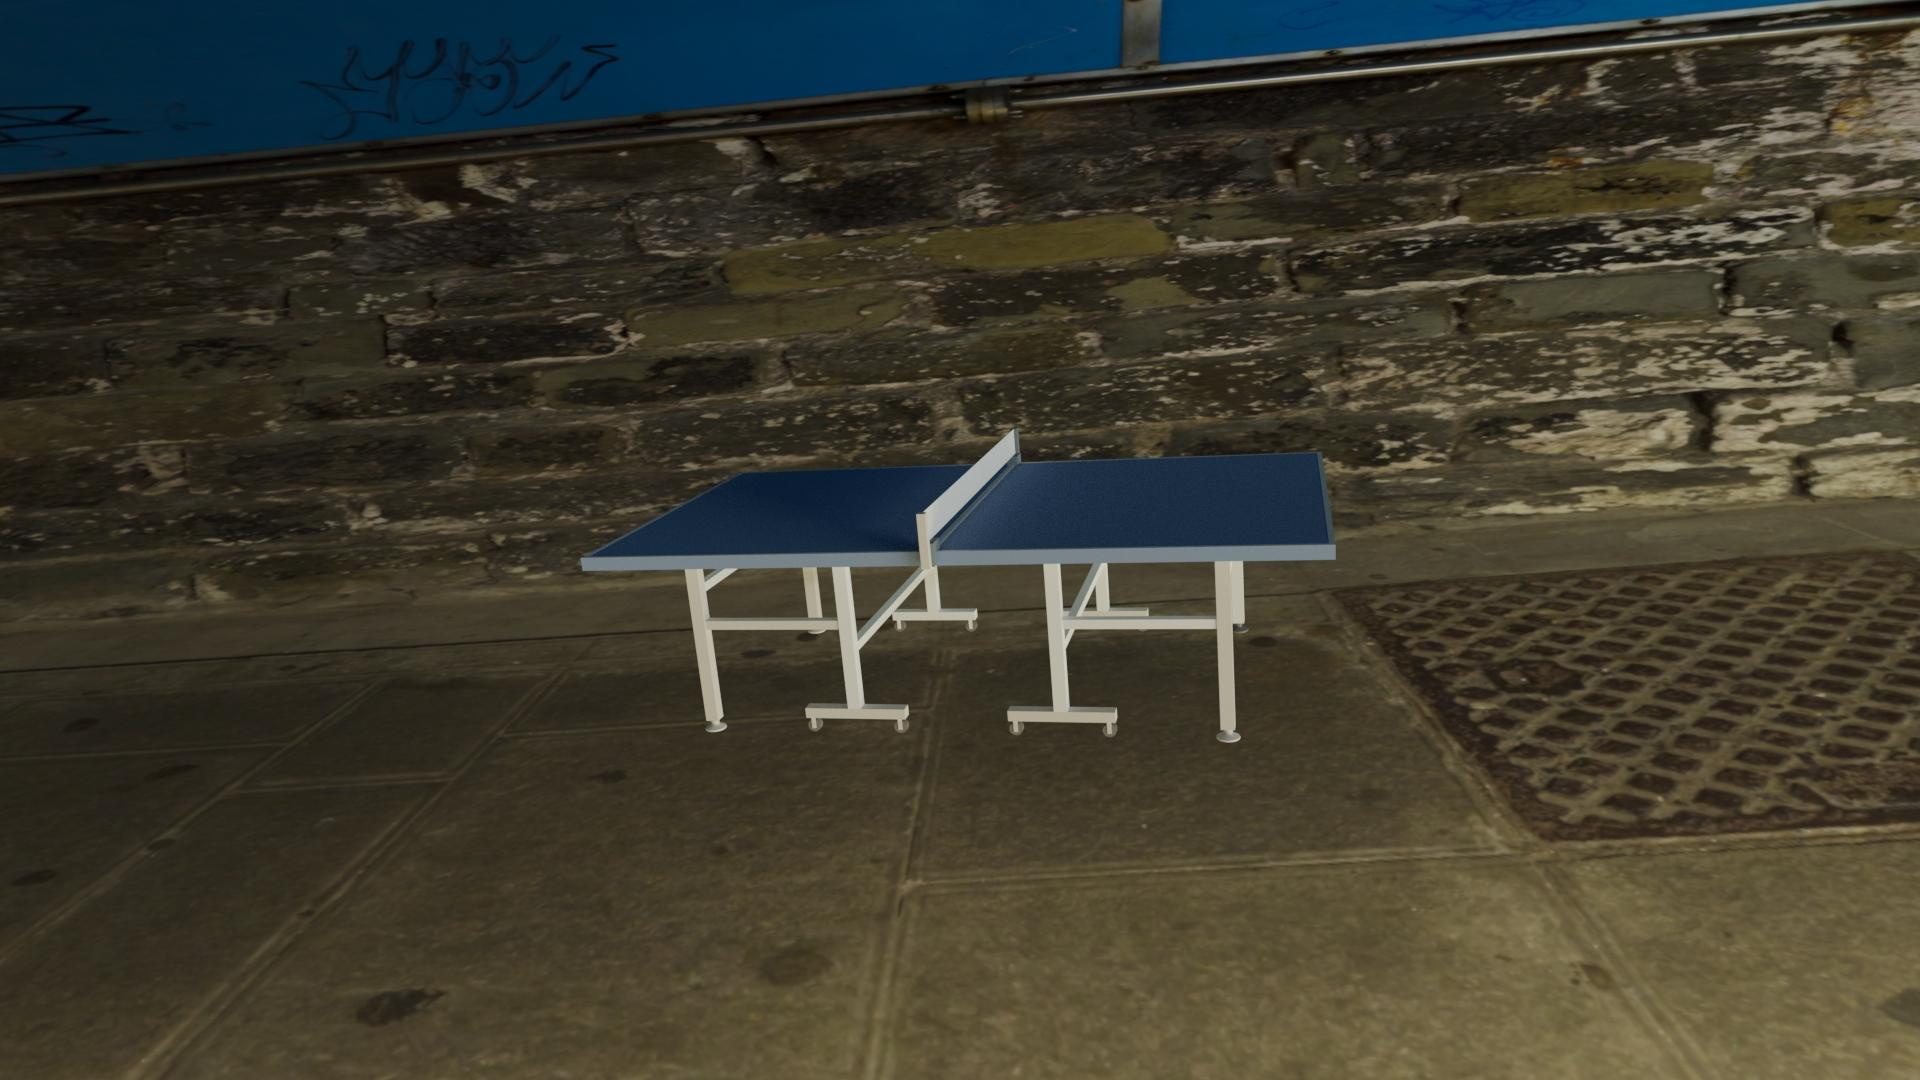table: (588, 452, 1329, 556)
